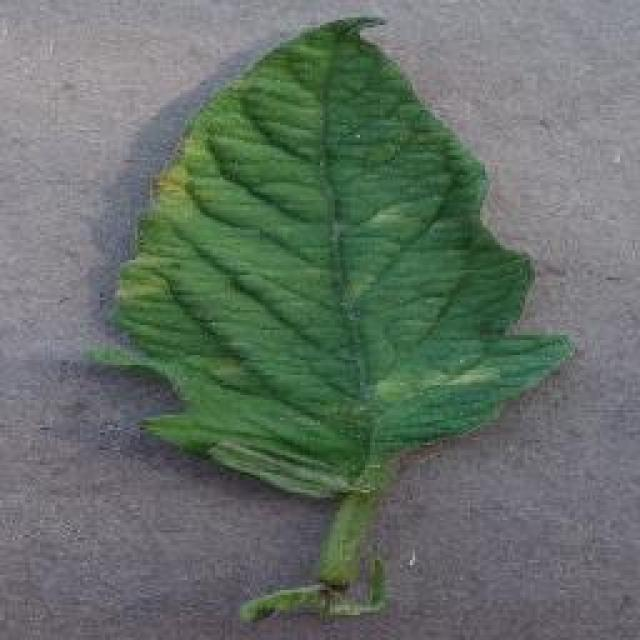leaf mold: (88, 17, 575, 589)
